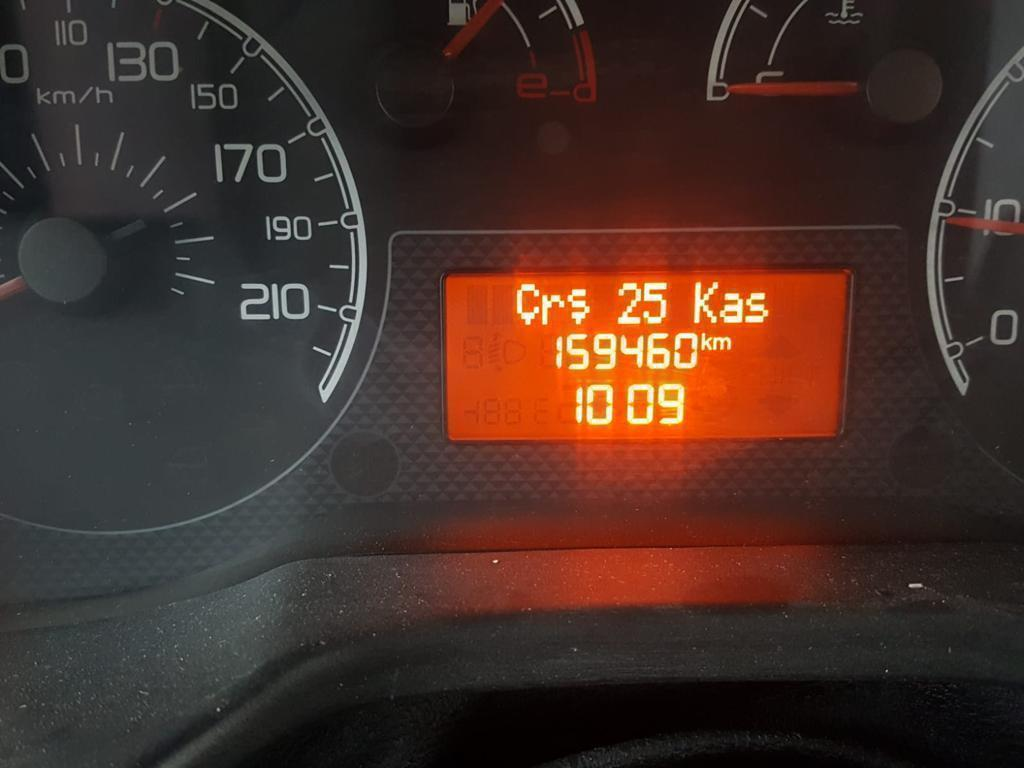0: (585, 383, 614, 425), (625, 383, 654, 425), (672, 331, 698, 369)
1: (573, 386, 584, 424), (554, 335, 563, 369)
2: (616, 282, 641, 325)
4: (619, 334, 644, 367)
5: (642, 281, 668, 324), (565, 333, 590, 369)
6: (646, 331, 671, 370)
9: (656, 383, 684, 425), (592, 332, 617, 370)
X: (692, 280, 718, 323), (515, 283, 539, 326), (566, 288, 591, 324), (718, 292, 743, 324), (744, 292, 769, 323), (540, 294, 565, 325), (712, 335, 731, 350), (700, 331, 712, 350)
odometer: (443, 270, 850, 443)
